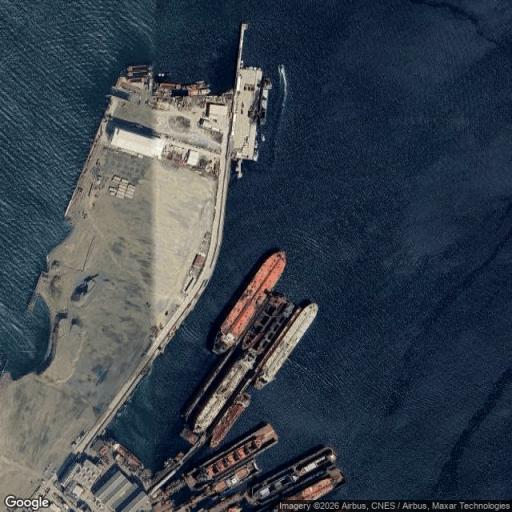ship: (211, 250, 286, 354), (253, 302, 319, 390), (194, 349, 257, 433), (195, 438, 263, 480), (241, 294, 286, 351), (210, 394, 251, 448), (256, 300, 295, 354), (254, 471, 300, 501), (282, 477, 339, 500), (205, 467, 250, 496), (107, 437, 145, 469), (299, 453, 336, 474), (278, 65, 287, 112), (165, 452, 185, 469), (259, 90, 268, 126), (187, 82, 212, 89), (187, 88, 212, 95), (127, 65, 150, 72), (160, 83, 182, 90), (127, 72, 149, 77), (254, 151, 258, 160), (262, 134, 266, 142), (254, 140, 258, 148), (240, 59, 243, 69), (246, 66, 252, 69), (254, 67, 257, 70)
